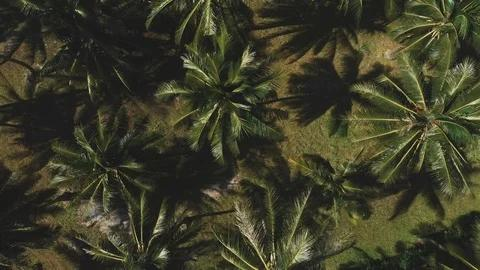coconut_tree: (339, 61, 479, 196), (159, 32, 284, 164), (37, 111, 157, 214), (197, 195, 348, 269), (57, 208, 196, 268)
